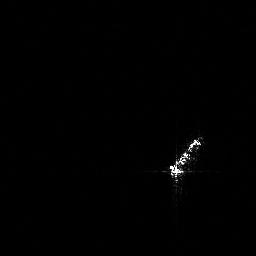ship: (165, 131, 209, 193)
